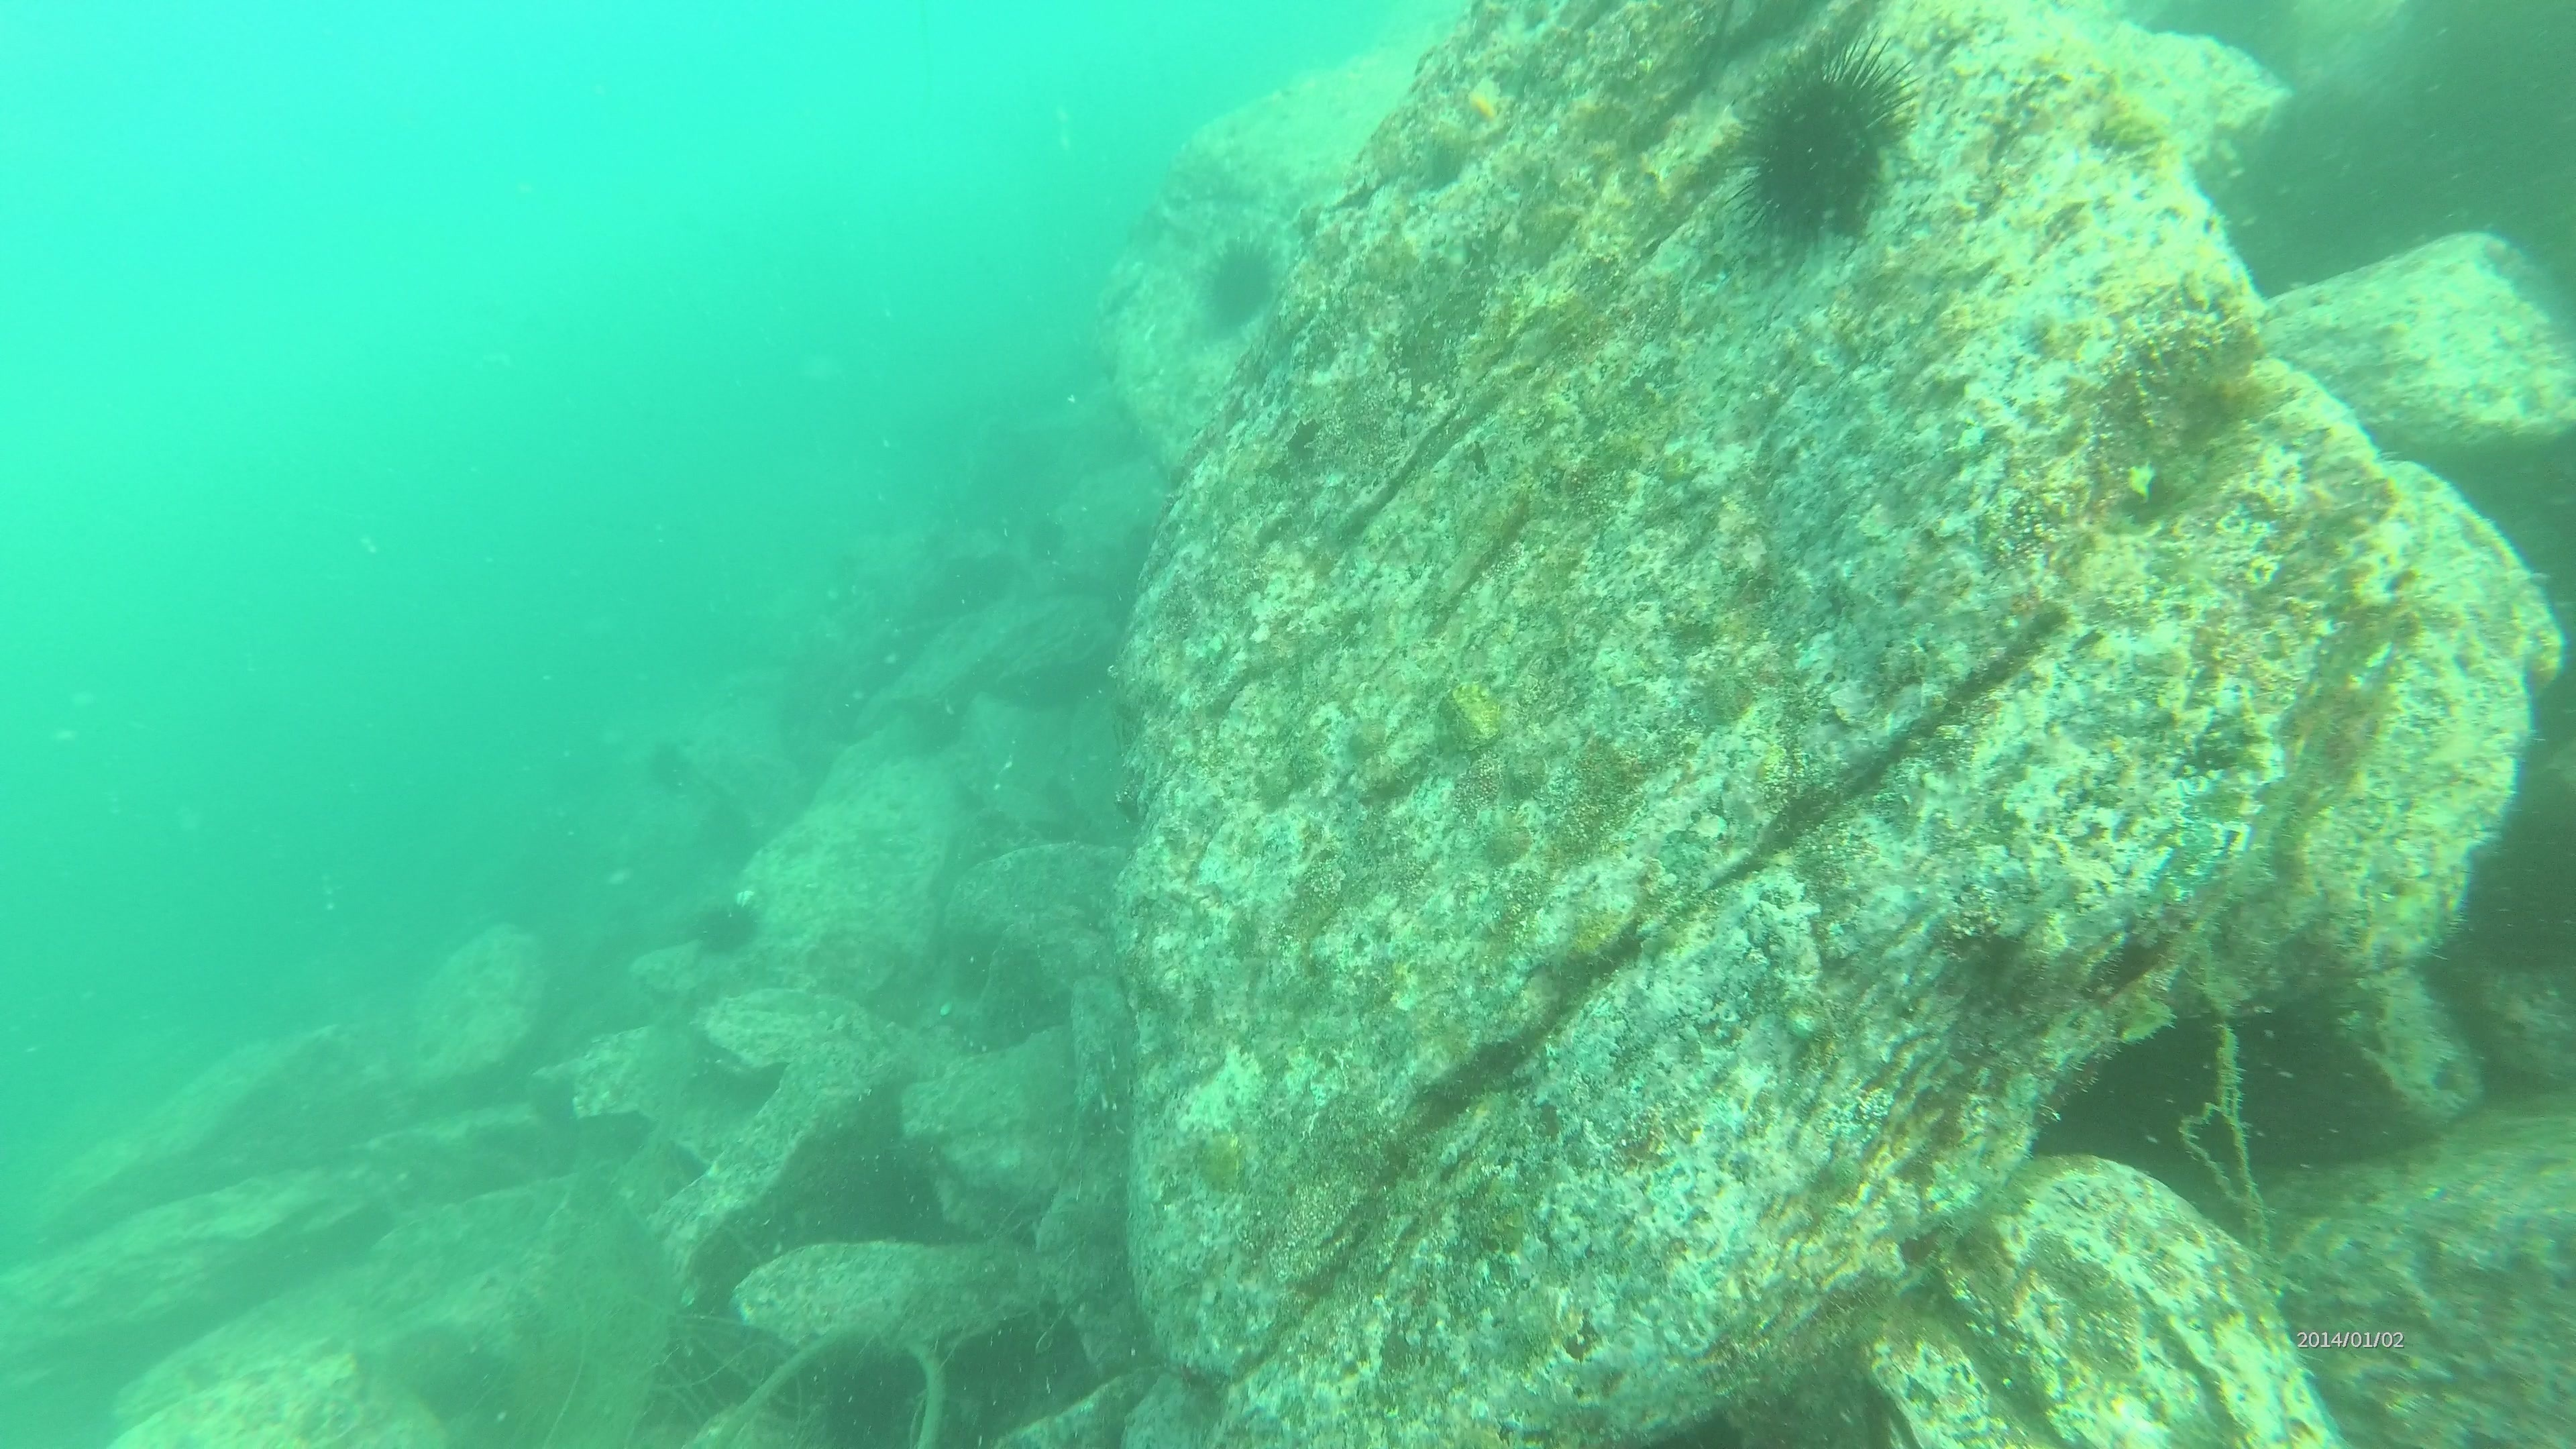echinus: (1725, 35, 1923, 249), (1192, 232, 1286, 338), (683, 888, 768, 962)
